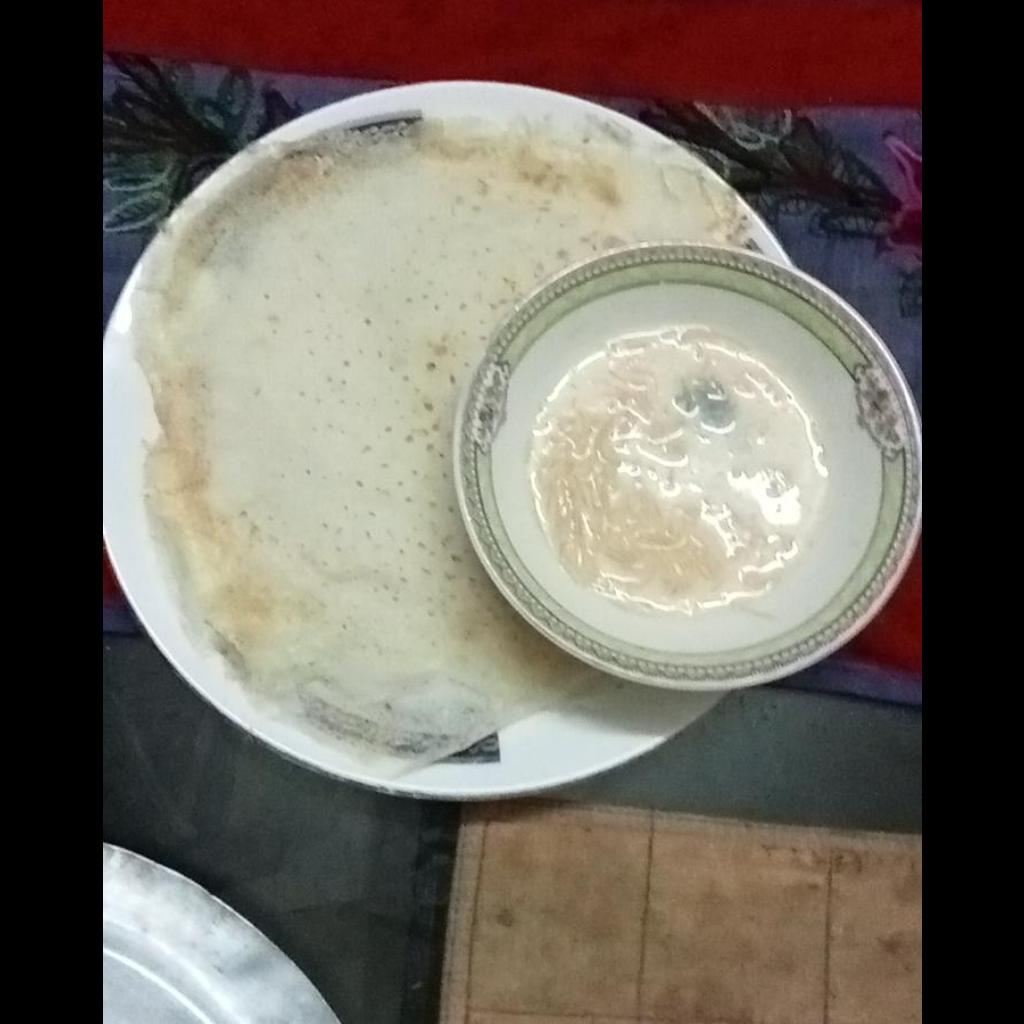payesh: (531, 328, 827, 610)
ruti: (129, 114, 752, 777)
